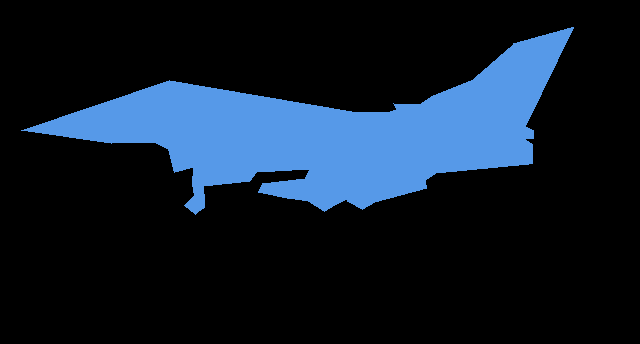Airplane: (21, 27, 574, 215)
